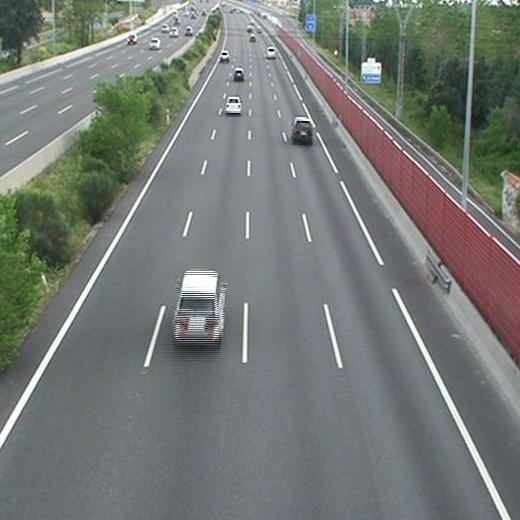car: (174, 272, 226, 345), (292, 117, 313, 139), (225, 96, 242, 113), (219, 50, 229, 61), (234, 69, 245, 79), (266, 48, 276, 58), (249, 35, 257, 42)
